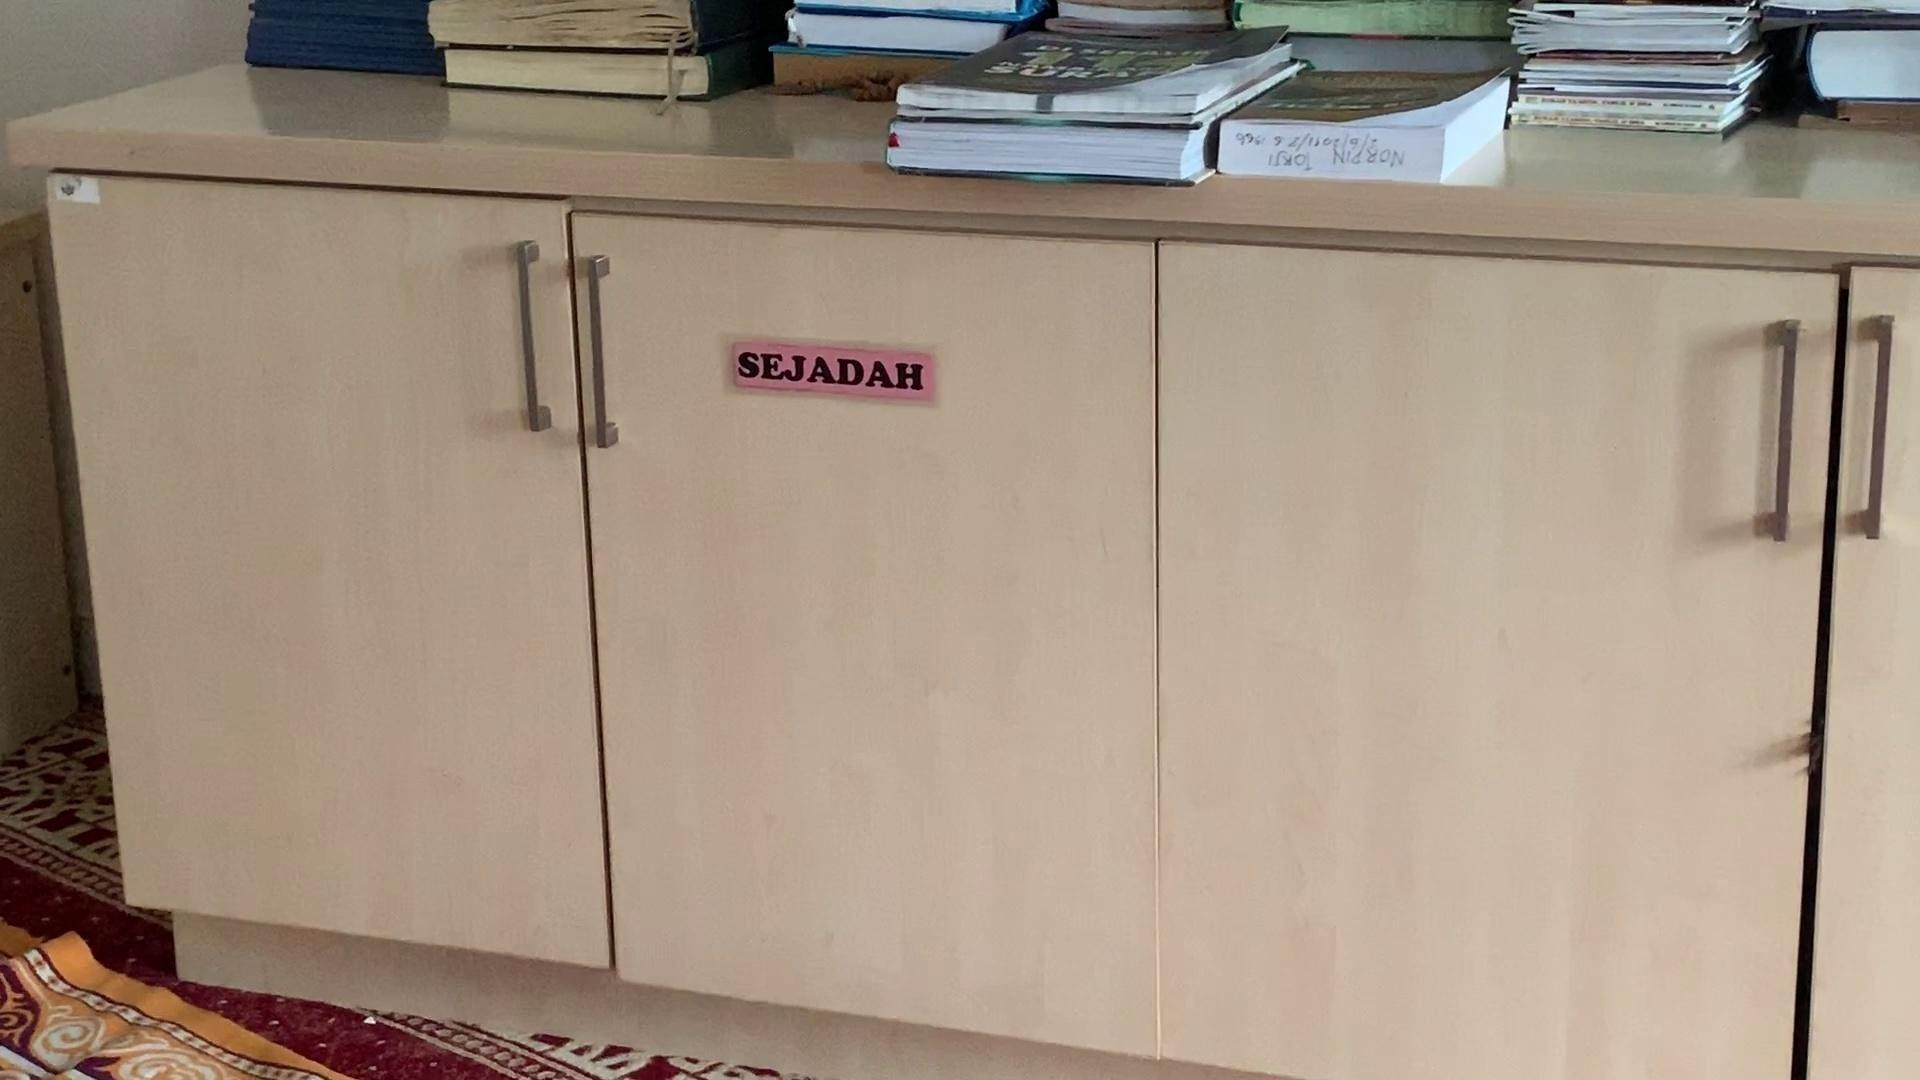cabinet_door: (1159, 260, 1807, 1080), (604, 223, 1159, 1019), (113, 203, 601, 947), (1824, 268, 1920, 1080)
handle: (1846, 307, 1909, 547), (1756, 309, 1805, 551), (505, 231, 560, 438), (575, 245, 628, 458)
